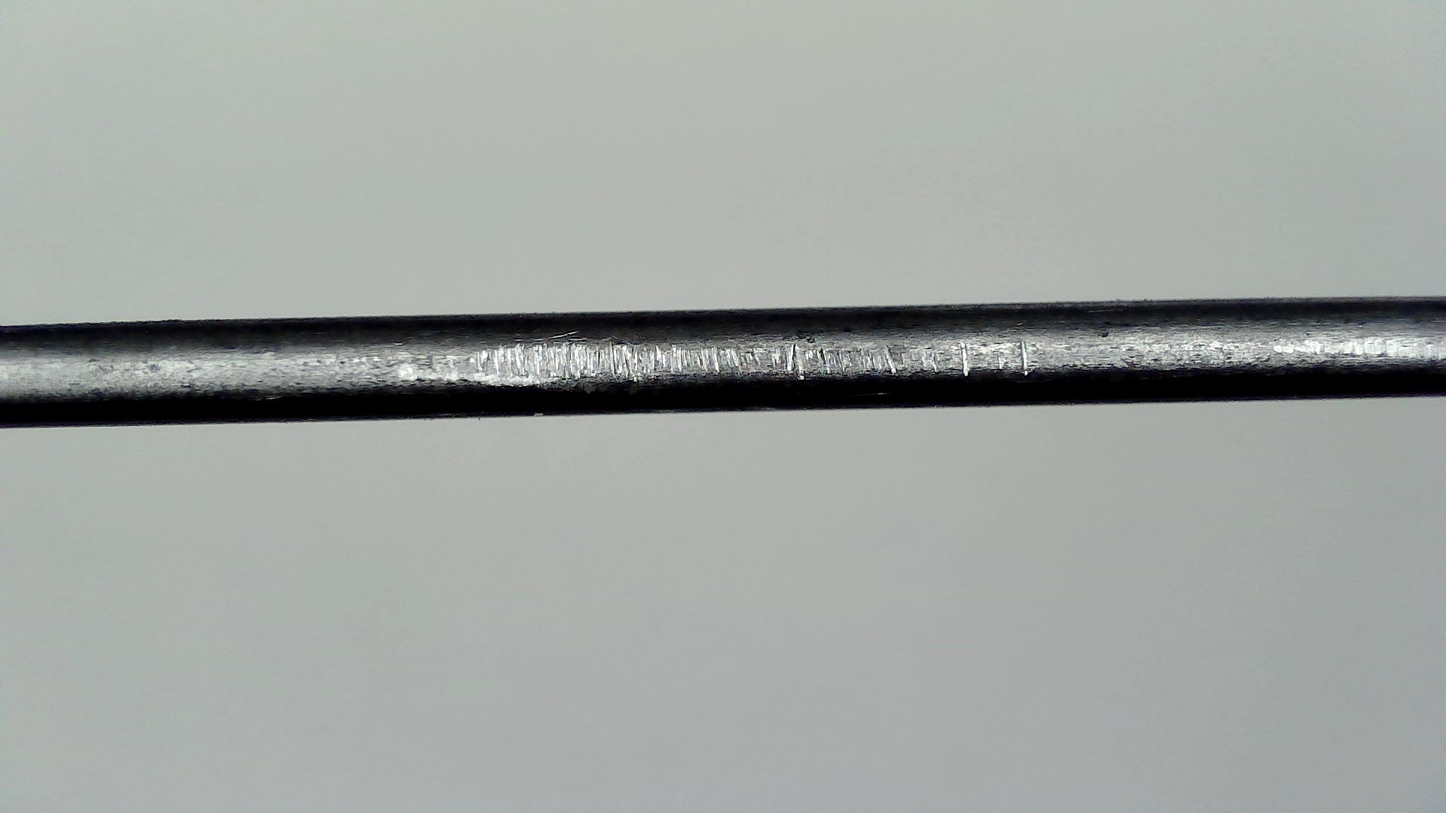defect: (424, 311, 1030, 390)
